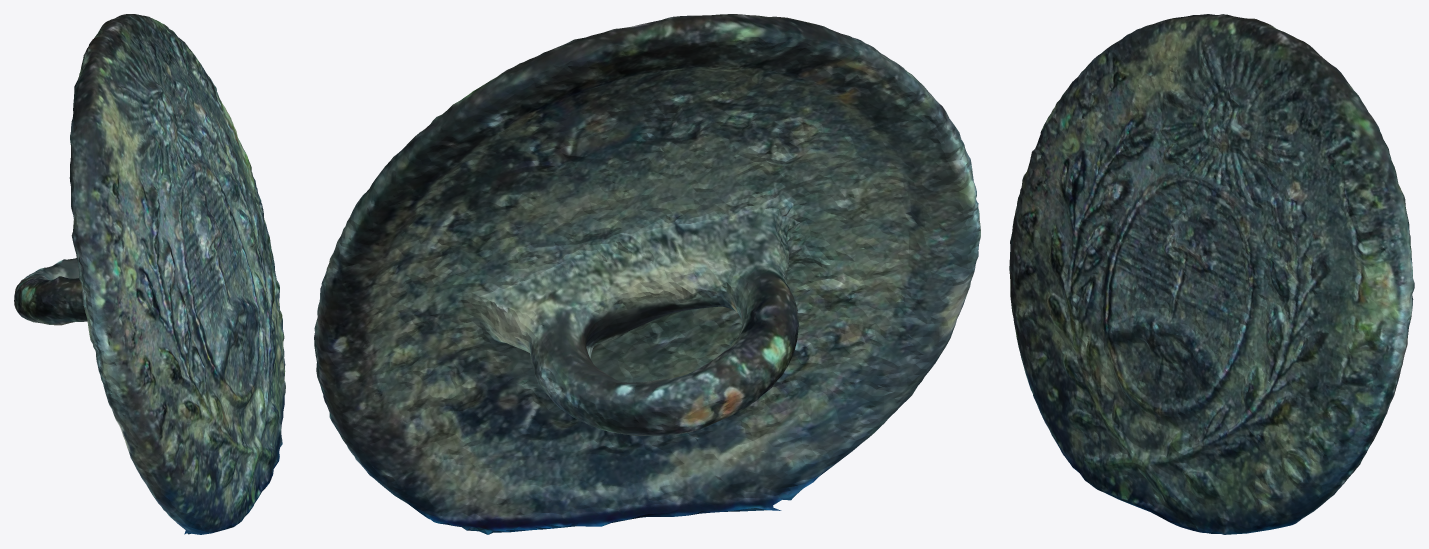
The model's file is Boton.glb.
3 renders of one model, left to right at view 1: azimuth 30°, elevation 25°; view 2: azimuth 150°, elevation 25°; view 3: azimuth 270°, elevation 25°, orthographic. The views are drawn at different scales.
Bounding box in the file's own units: 0.2576 × 0.321 × 0.267.
Materials: 1 (1 with a texture image).
